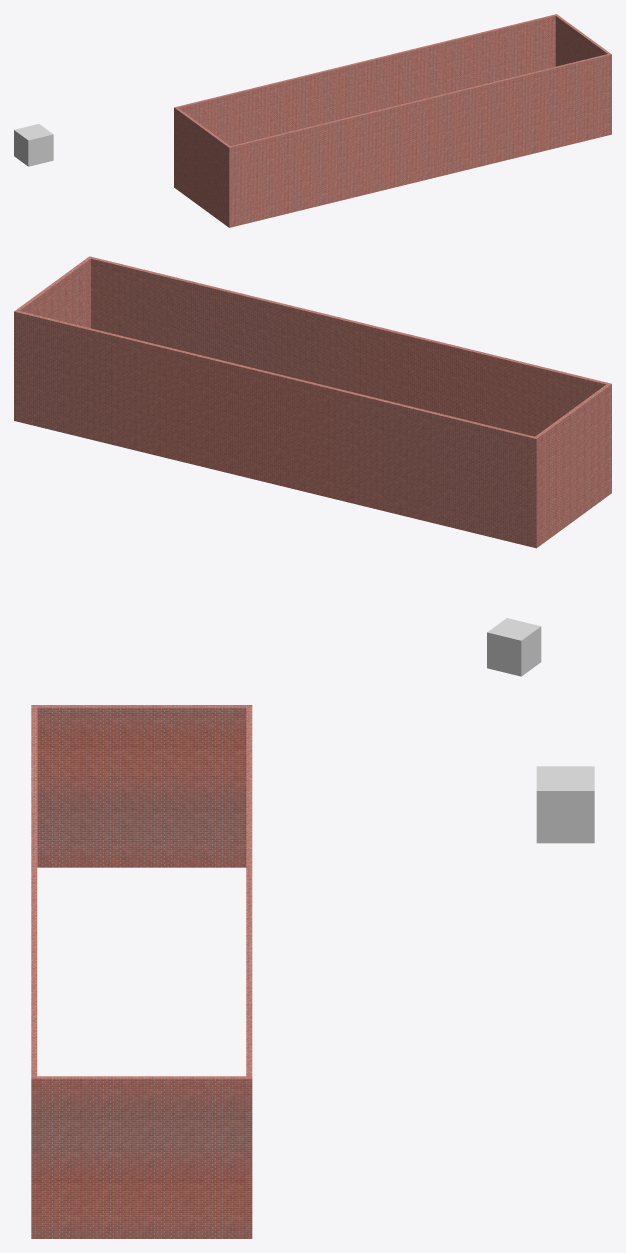
Rendered from studio.glb.
3 views of the same model, one above another, from view 1: azimuth 30°, elevation 25°; view 2: azimuth 150°, elevation 25°; view 3: azimuth 270°, elevation 25° (orthographic). The views are drawn at different scales.
Visible parts, largest first — view 1: SW - 057, SW - 059, SW - 056, SW - 058, Cube; view 2: SW - 059, SW - 057, SW - 056, SW - 058, Cube; view 3: SW - 058, SW - 056, Cube, SW - 057, SW - 059.
Part boxes in pixels (<box>): SW - 057: <box>228,53,611,227</box>; SW - 059: <box>174,14,555,186</box>; SW - 056: <box>174,107,231,227</box>; SW - 058: <box>555,14,611,134</box>; Cube: <box>14,124,53,166</box>; SW - 059: <box>14,310,538,548</box>; SW - 057: <box>87,256,611,494</box>; SW - 056: <box>533,384,611,547</box>; SW - 058: <box>14,256,91,421</box>; Cube: <box>487,618,541,676</box>; SW - 058: <box>31,1076,252,1238</box>; SW - 056: <box>31,705,252,867</box>; Cube: <box>536,766,594,843</box>; SW - 057: <box>31,705,37,1238</box>; SW - 059: <box>246,705,252,1238</box>.
Size of what is drawn, in the model's own units: 36.41 by 7.1 by 19.42.
2 materials, 1 textured.
